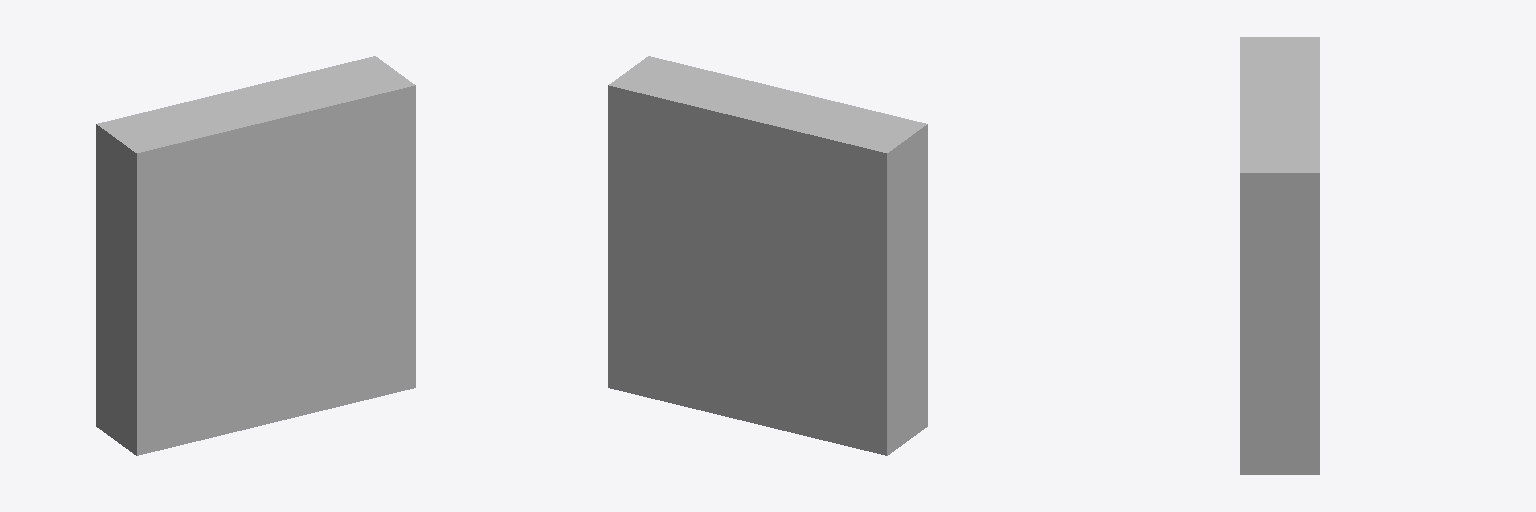
Rendered from Wall.obj.
3 views of the same model, side by side, from view 1: azimuth 30°, elevation 25°; view 2: azimuth 150°, elevation 25°; view 3: azimuth 270°, elevation 25° (orthographic).
Visible parts, largest first — view 1: Wall; view 2: Wall; view 3: Wall.
Part boxes in pixels (bbox=[...]): Wall: bbox=[96, 56, 415, 455]; Wall: bbox=[608, 56, 927, 455]; Wall: bbox=[1240, 37, 1319, 474].
Bounding box in the file's own units: 1 × 1.04 × 0.25.